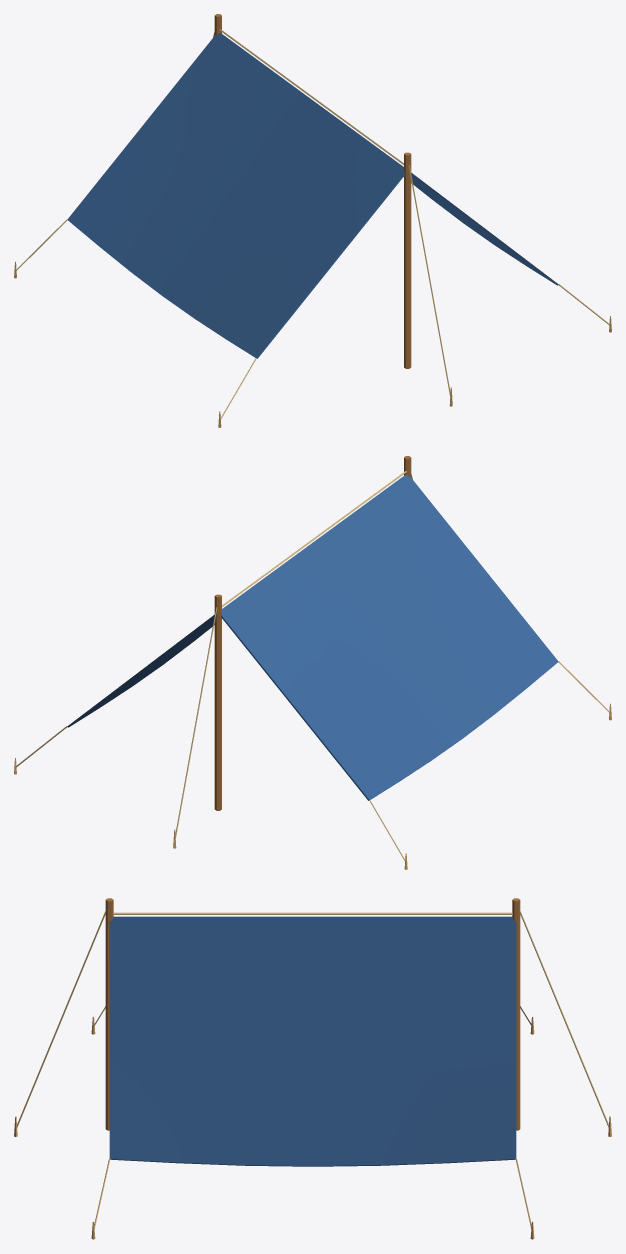
The model's file is SM_Tarp_Shelter.glb.
The picture shows the model from 3 angles, top to bottom: view 1: azimuth 30°, elevation 25°; view 2: azimuth 150°, elevation 25°; view 3: azimuth 270°, elevation 25°; orthographic projection. The views are drawn at different scales.
Visible parts, largest first — view 1: SM_Tarp_Shelter; view 2: SM_Tarp_Shelter; view 3: SM_Tarp_Shelter.
Boxes of the visible parts, x1,y1,x2,y2 form: SM_Tarp_Shelter: (14,14,611,427); SM_Tarp_Shelter: (14,456,611,869); SM_Tarp_Shelter: (14,898,611,1239).
Size of the model in its own units: 3.12 by 1.67 by 3.82.
Materials: 1 (1 with a texture image).
